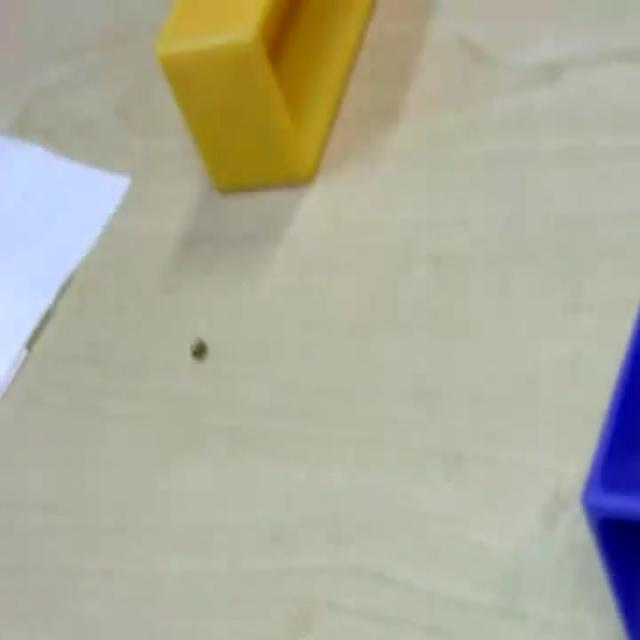blue_block: (579, 300, 639, 636)
yellow_block: (154, 0, 375, 192)
